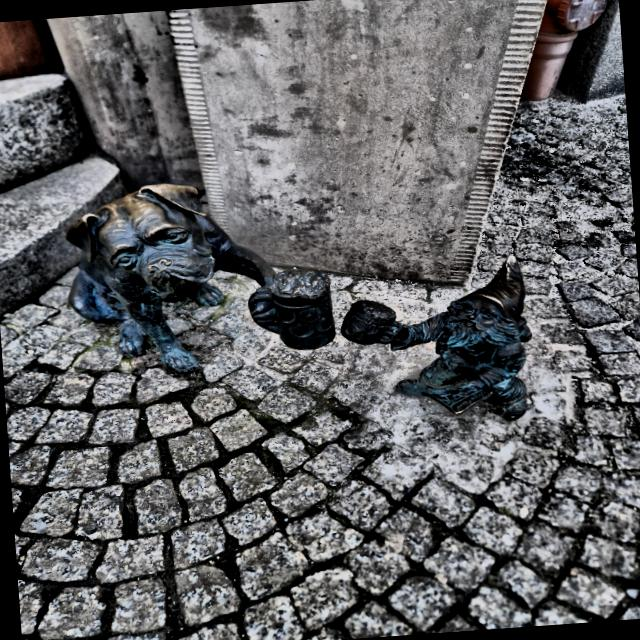Piwozlopek_ i_Piesel_Piwosz: (67, 184, 334, 372), (341, 255, 532, 418)
